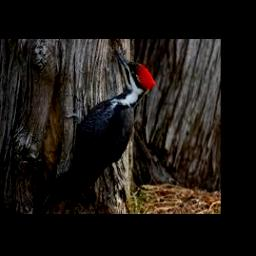Woodpecker: (38, 47, 157, 212)
